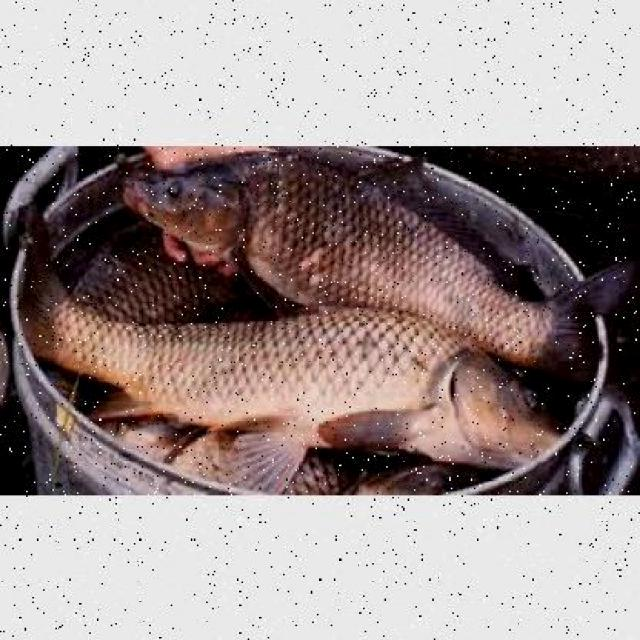ikan-mas: (121, 146, 608, 362), (25, 302, 562, 464)
